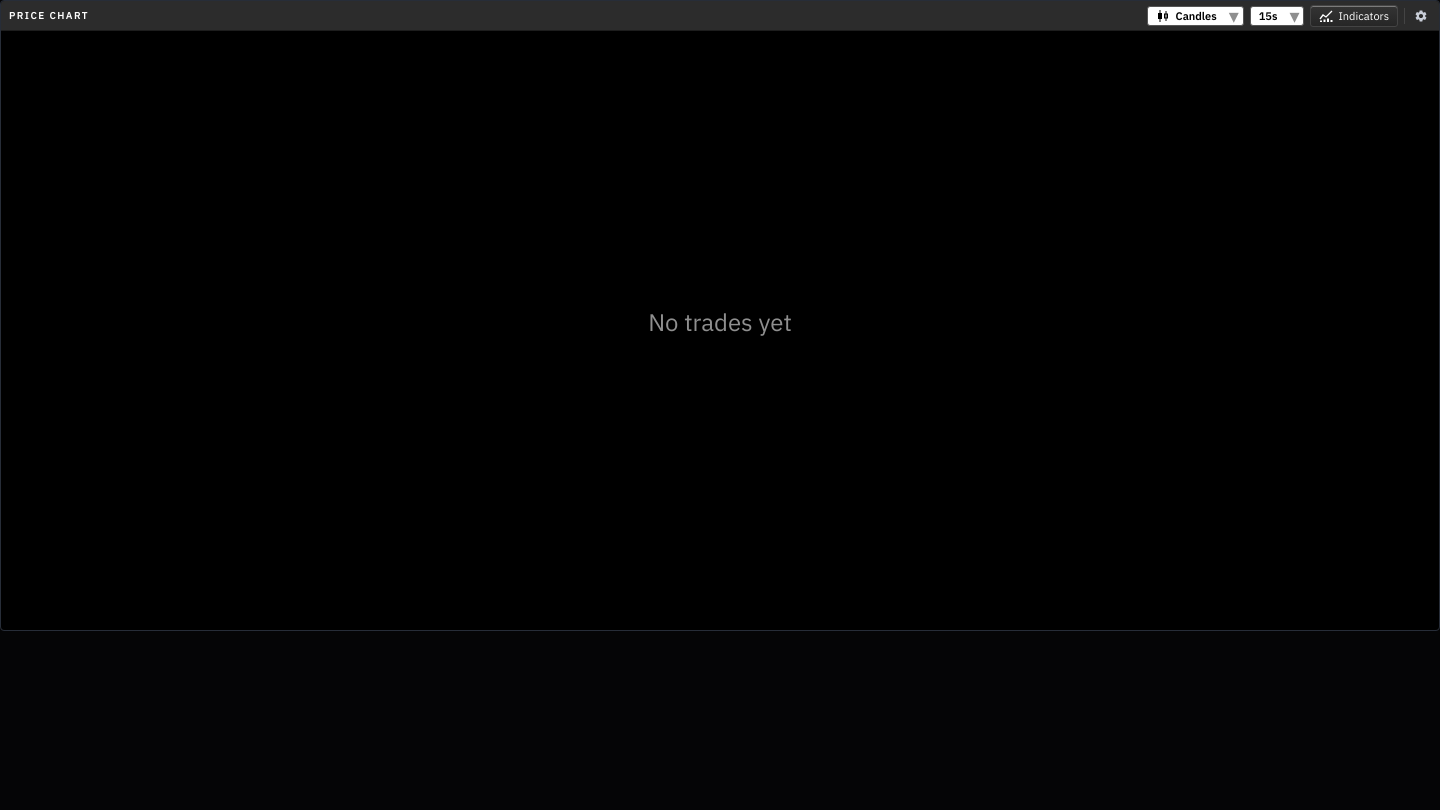
Test: §11.4 every settings popup has the silver Done footer › price chart
Click the button with test id "pc-settings-gear" at (1421, 16), box [1411, 6, 1431, 26]
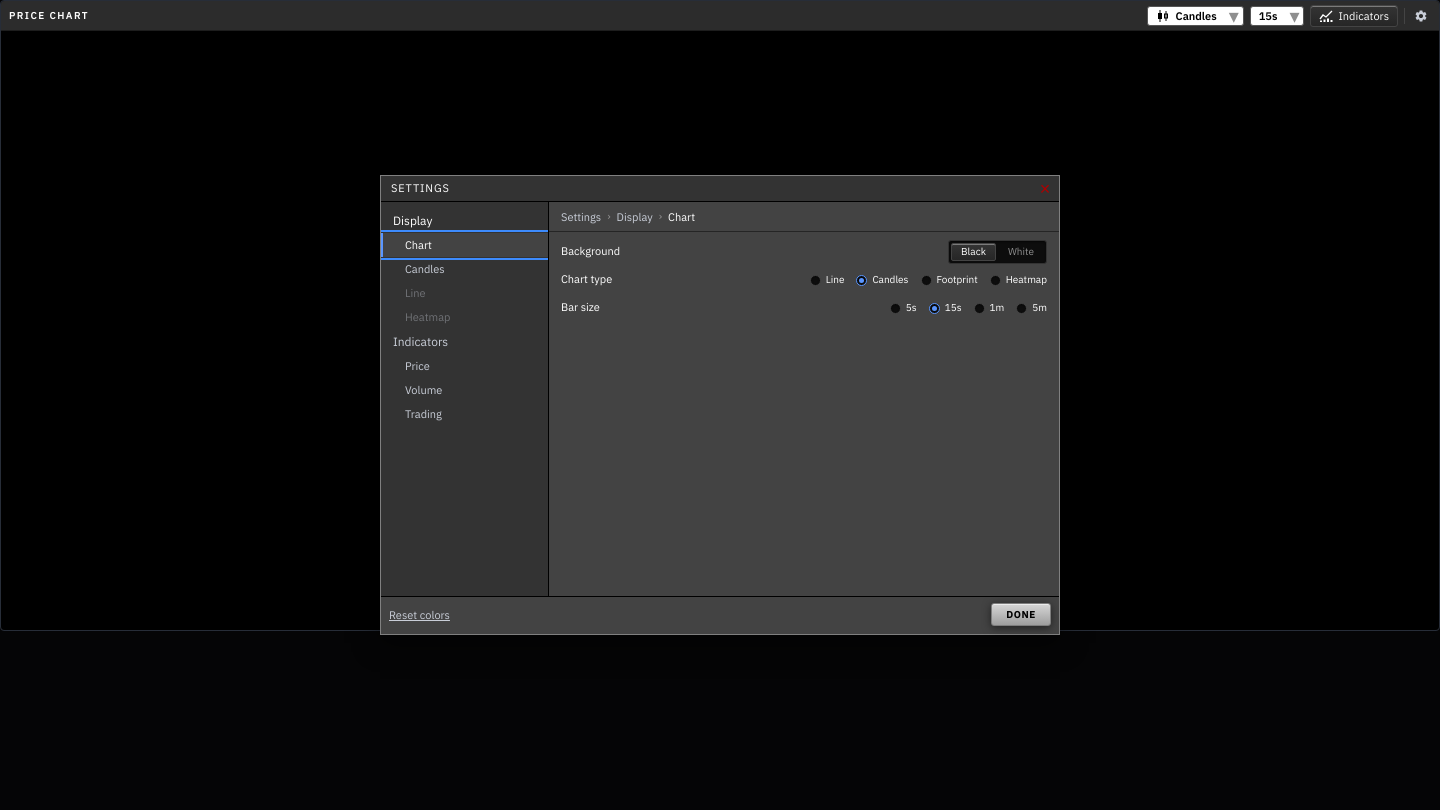
Click the button with test id "pc-settings-done" at (1021, 614), box [991, 603, 1051, 626]
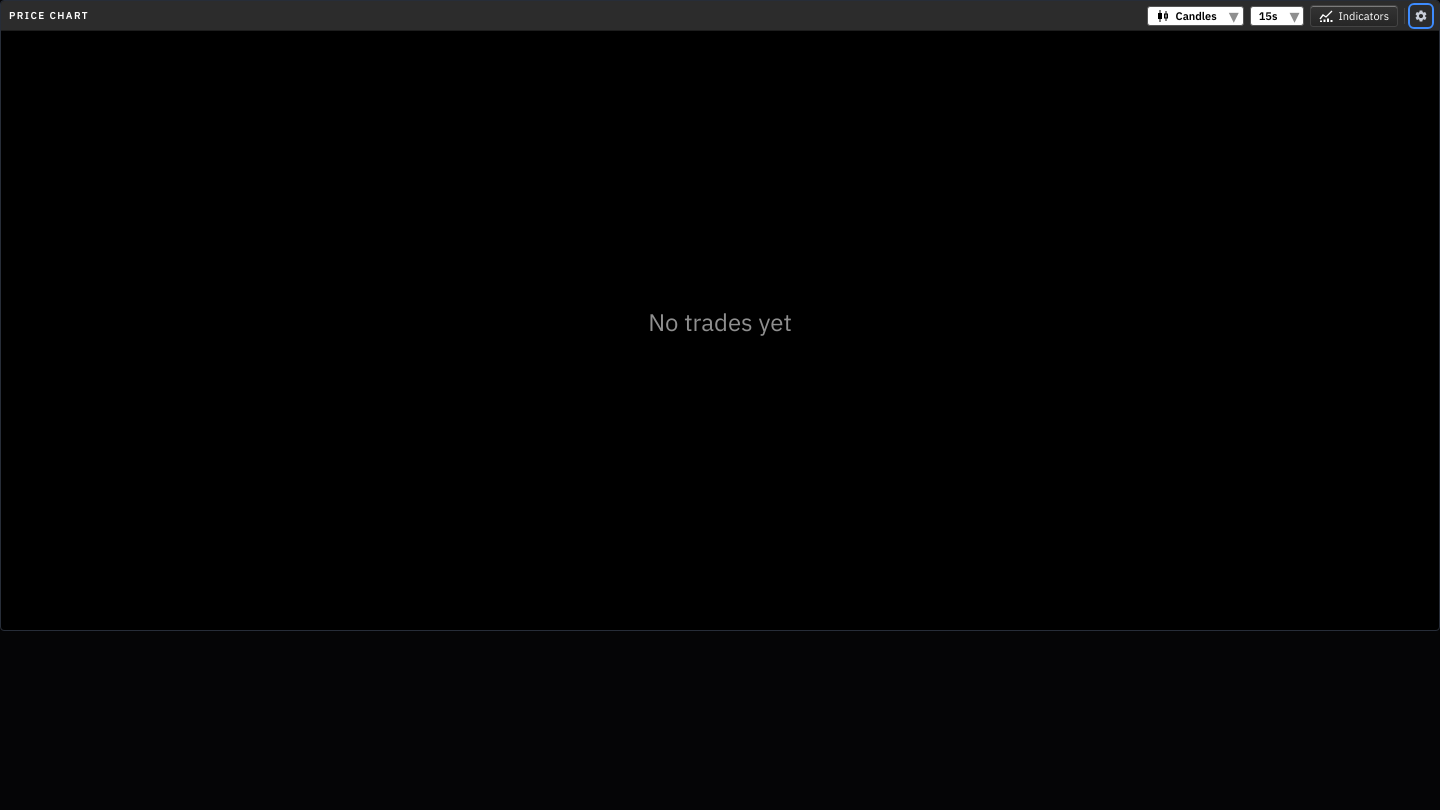
Now the dialog with test id "pc-settings" is gone
